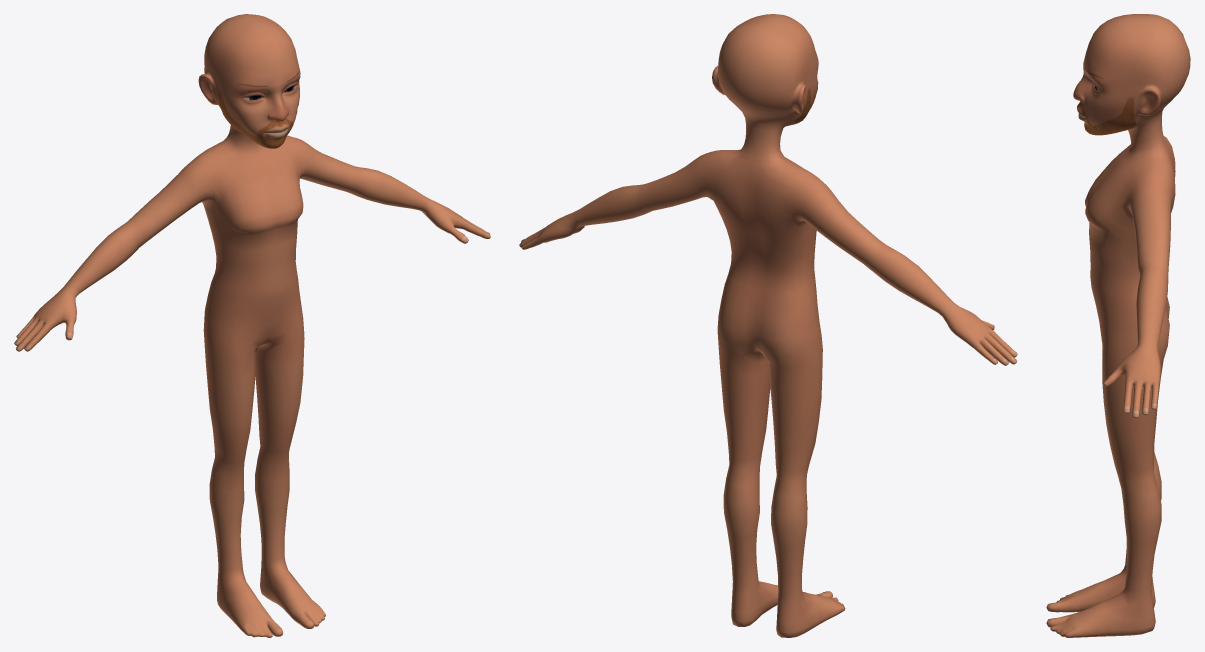
The model's file is frame_0090.glb.
3 renders of one model, left to right at view 1: azimuth 30°, elevation 25°; view 2: azimuth 150°, elevation 25°; view 3: azimuth 270°, elevation 25°, orthographic. The views are drawn at different scales.
Visible parts, largest first — view 1: frame_0090_head_geo; view 2: frame_0090_head_geo; view 3: frame_0090_head_geo.
Part boxes in pixels (<box>): frame_0090_head_geo: <box>14,14,490,637</box>; frame_0090_head_geo: <box>519,14,1017,637</box>; frame_0090_head_geo: <box>1046,14,1190,637</box>.
Bounding box in the file's own units: 1.28 × 1.5 × 0.3253.
3 materials, 3 textured.
